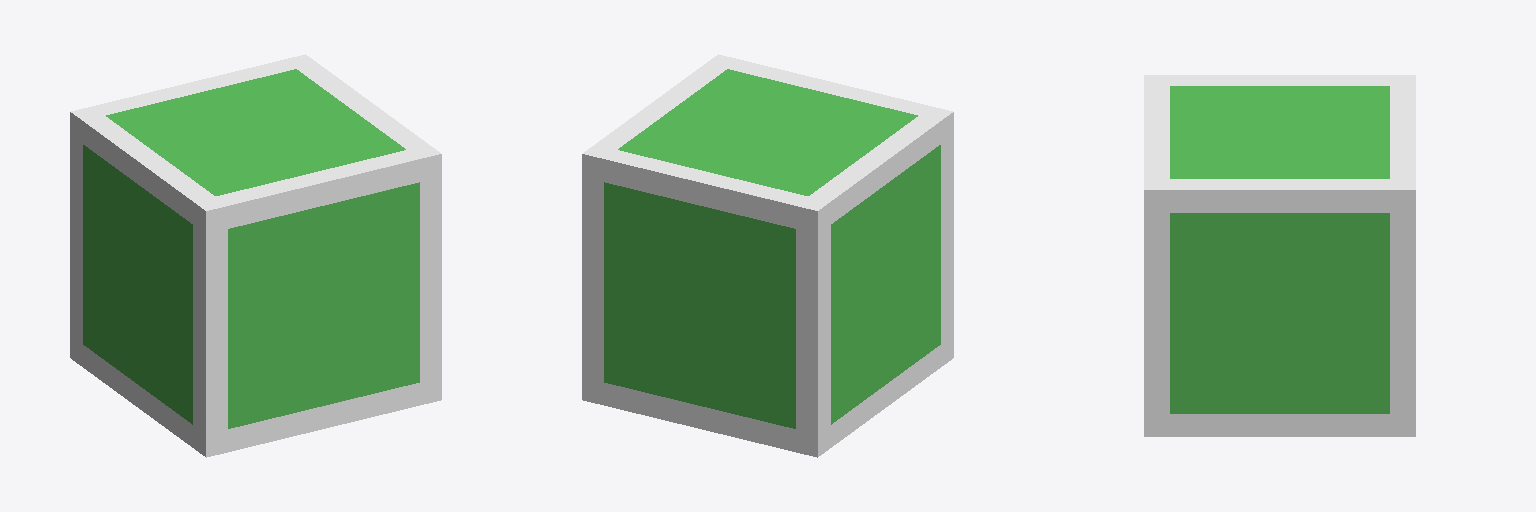
3 renders of one model, left to right at view 1: azimuth 30°, elevation 25°; view 2: azimuth 150°, elevation 25°; view 3: azimuth 270°, elevation 25°, orthographic.
Visible parts, largest first — view 1: puzzle_item_1_combo1; view 2: puzzle_item_1_combo1; view 3: puzzle_item_1_combo1.
Part boxes in pixels (bbox=[...]): puzzle_item_1_combo1: bbox=[70, 54, 441, 457]; puzzle_item_1_combo1: bbox=[582, 54, 953, 457]; puzzle_item_1_combo1: bbox=[1144, 75, 1415, 436].
Size of the model in its own units: 80 by 80 by 80.
1 materials, 1 textured.